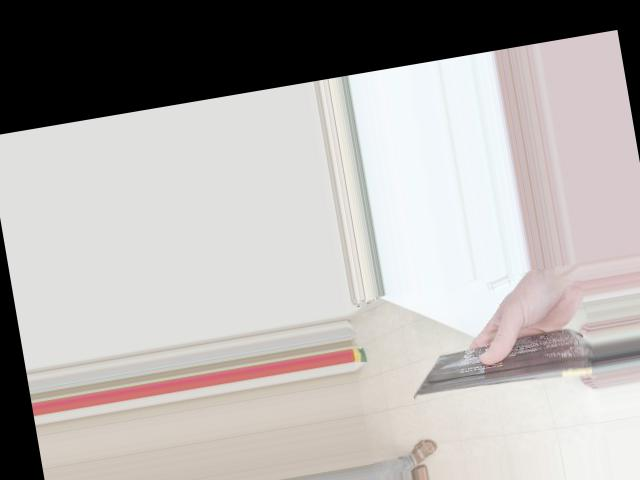chocolate: (422, 319, 599, 407)
